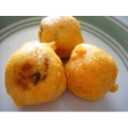bonda: (4, 50, 63, 108), (66, 51, 119, 99), (43, 15, 82, 47)
